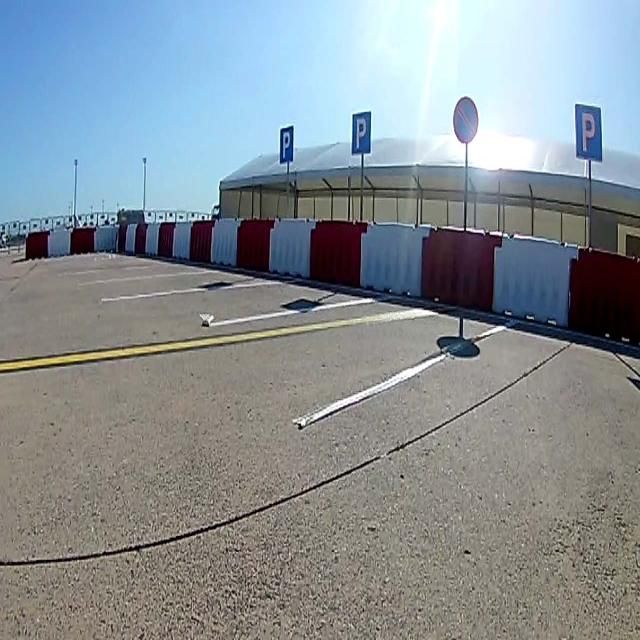park: (574, 104, 602, 162), (352, 110, 371, 155), (278, 125, 293, 163)
parkyasak: (454, 99, 478, 145)
